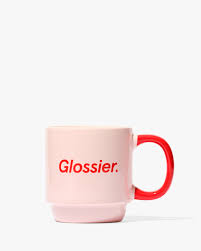mug: (42, 117, 181, 232)
